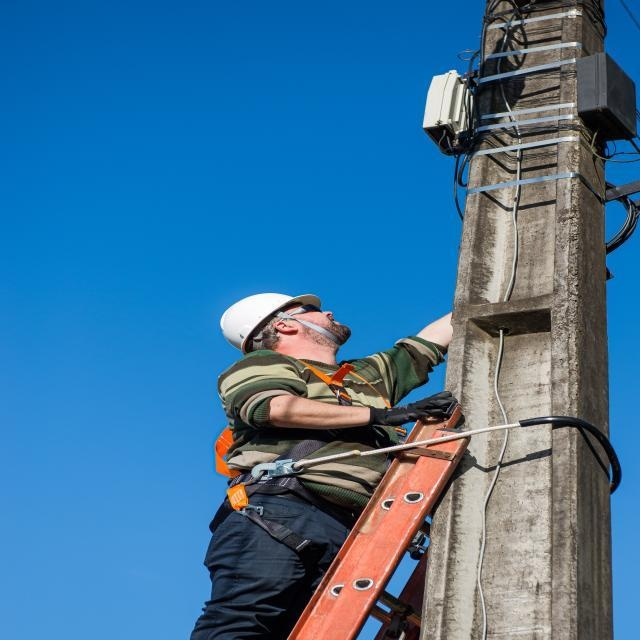Arnes_seguridad: (205, 355, 408, 580)
